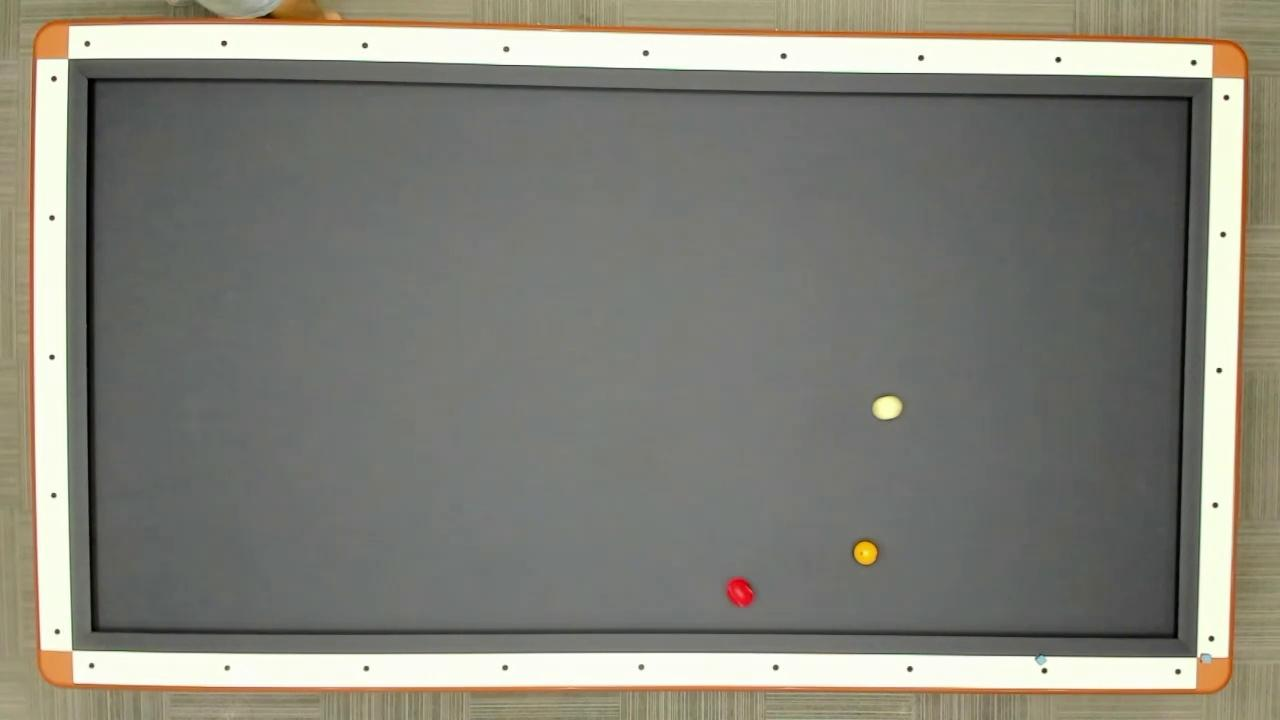Red: (724, 576, 756, 609)
White: (871, 394, 904, 422)
Yellow: (852, 538, 879, 567)
